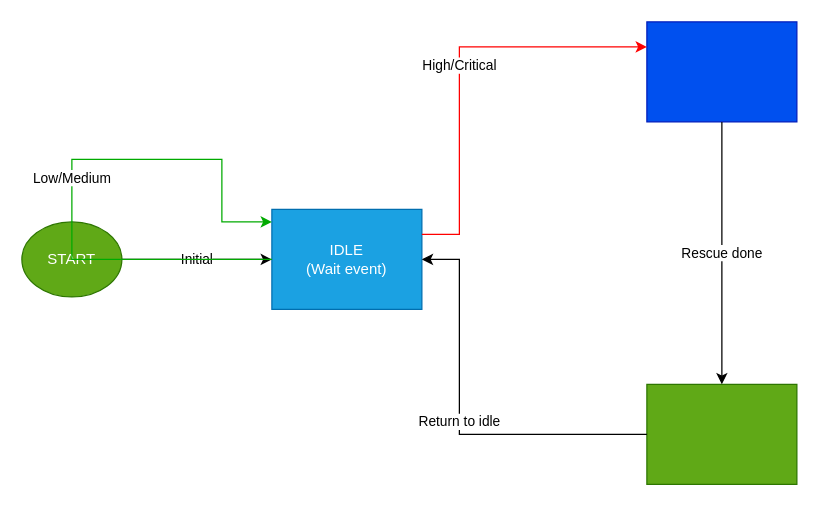
The diagram is 819 pixels wide and 506 high, and some of its shapes have lost their labels. Each missing label, with the centre of its shape:
COMPLETED (Mission finished): the point at 721,433
RESCUING (Perform rescue): the point at 721,71
